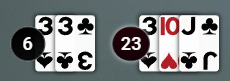10: (156, 14, 180, 39)
3: (53, 14, 77, 39), (32, 14, 55, 38), (137, 14, 159, 37)
j: (178, 14, 199, 38)
